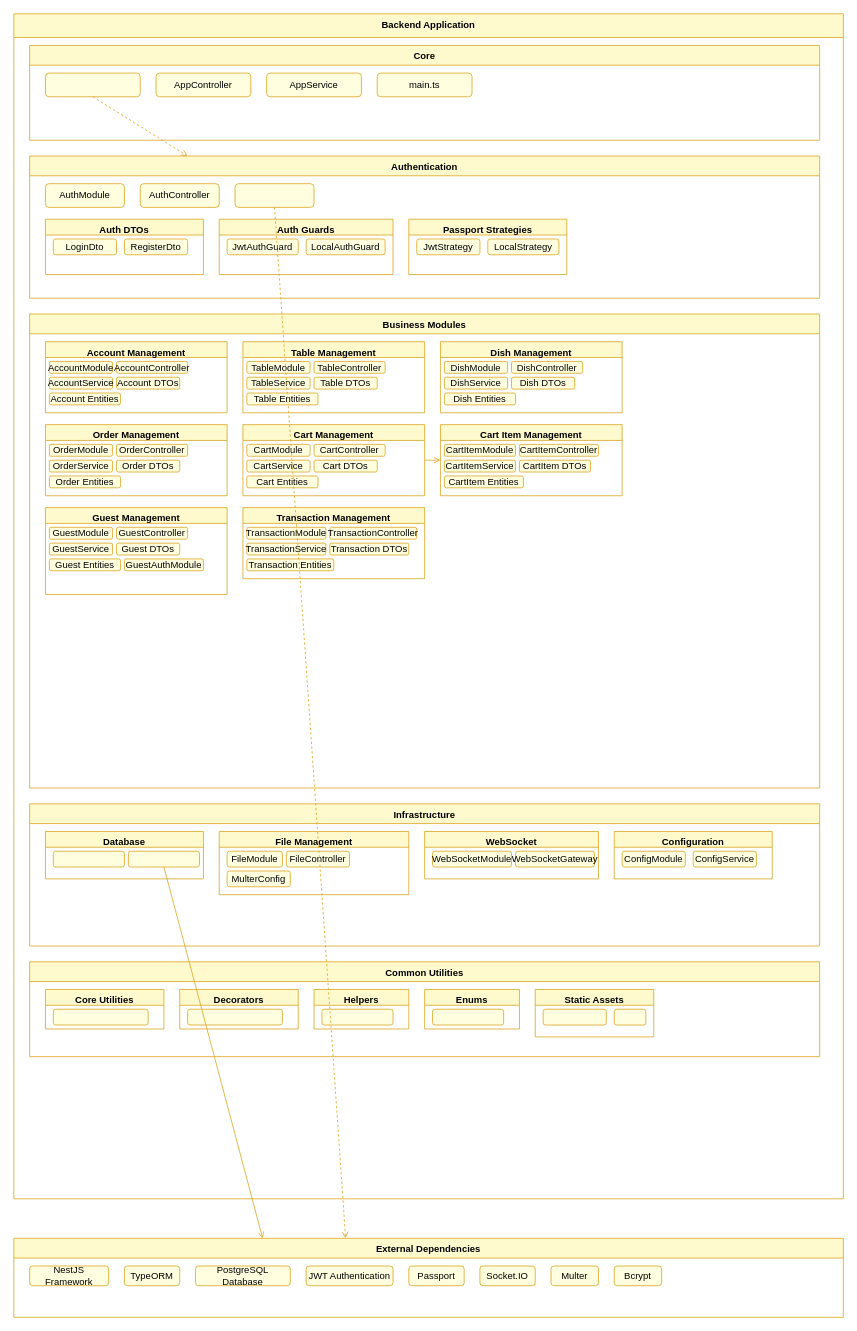
This 857x1331 diagram has some shape labels left out. The shapes that lost their labels are listed below. From the top down, each one's centre as x and y in pixels, then its label:
At [92,84]: "AppModule".
At [274,195]: "AuthService".
At [88,858]: "DatabaseConfig".
At [163,858]: "TypeOrmModule".
At [100,1016]: "TransformInterceptor".
At [234,1016]: "CustomizeDecorator".
At [357,1016]: "BcryptHelper".
At [468,1016]: "CommonEnums".
At [574,1016]: "PublicAssets".
At [629,1016]: "Images".
